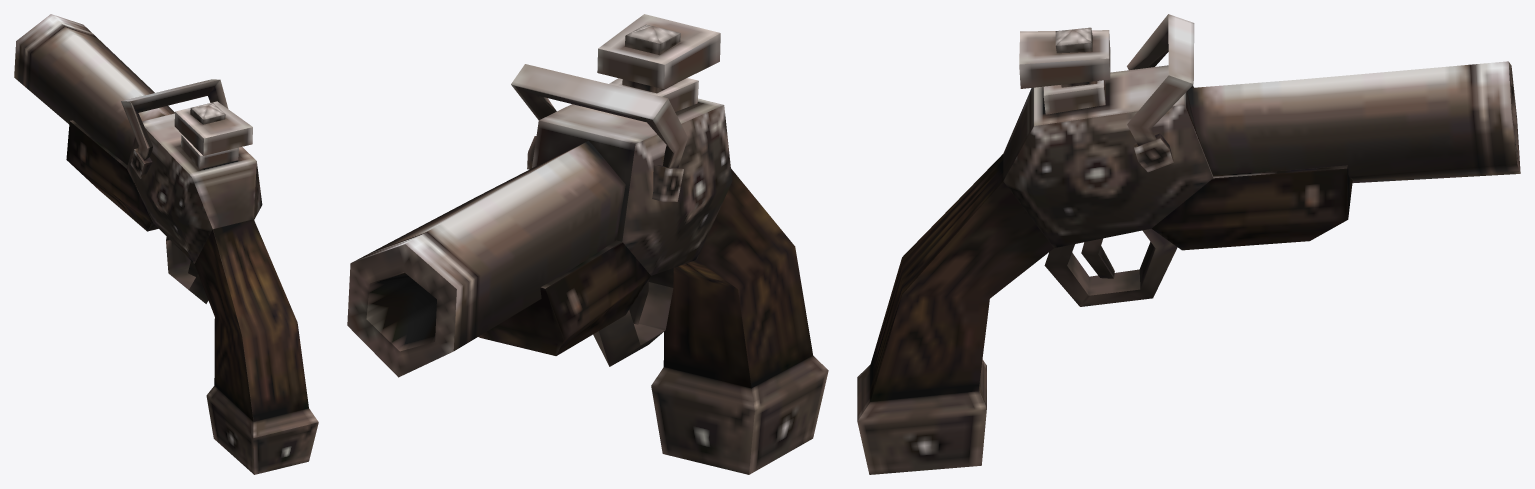
Rendered from pistol01_7b336ac8.glb.
3 views of the same model, side by side, from view 1: azimuth 30°, elevation 25°; view 2: azimuth 150°, elevation 25°; view 3: azimuth 270°, elevation 25° (orthographic). The views are drawn at different scales.
Bounding box in the file's own units: 0.1371 × 0.447 × 0.6291.
1 material, 1 textured.
